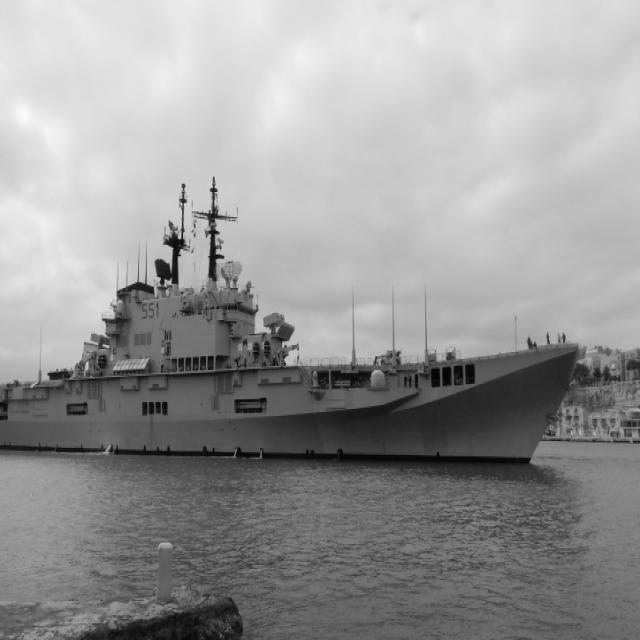Portanaves: (1, 162, 584, 474)
